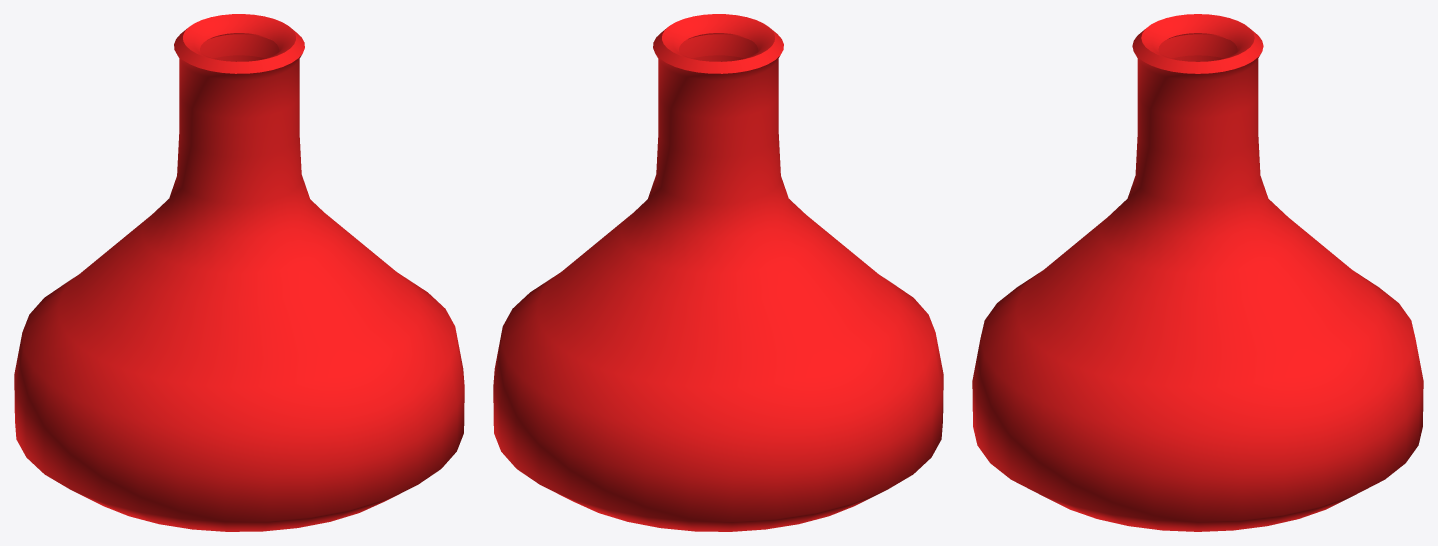
The model's file is static.fbx.
The picture shows the model from 3 angles, left to right: view 1: azimuth 30°, elevation 25°; view 2: azimuth 150°, elevation 25°; view 3: azimuth 270°, elevation 25°; orthographic projection.
Visible parts, largest first — view 1: Lathe_3; view 2: Lathe_3; view 3: Lathe_3.
Boxes of the visible parts, <box> form: Lathe_3: <box>14,14,464,531</box>; Lathe_3: <box>493,14,943,531</box>; Lathe_3: <box>972,14,1423,531</box>.
Bounding box in the file's own units: 69.38 × 70.88 × 69.38.
Materials: 2 (2 with a texture image).
